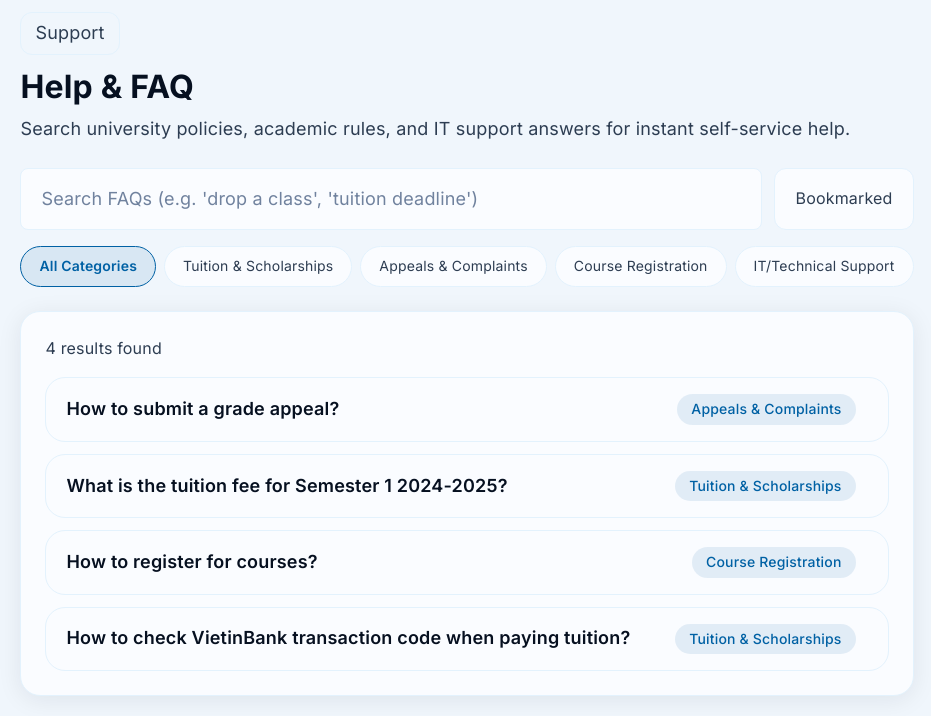
Scenario: FG06 - Centralized FAQ Access › TC_FAQ_20: view details then click Back -> returns to search list retaining keywords
Type "appeal" into the field with placeholder "Search FAQs (e.g. 'drop a class', 'tuition deadline')" at (391, 199), box [20,168,762,230]
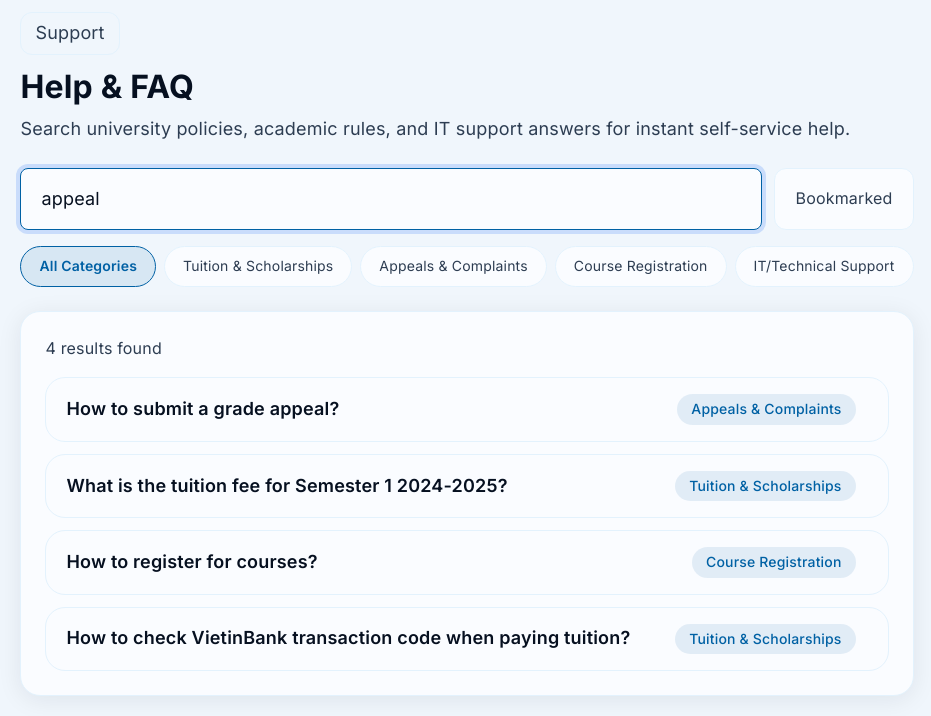
Click the text "How to submit a grade appeal?" at (203, 410), box [66,395,339,424]
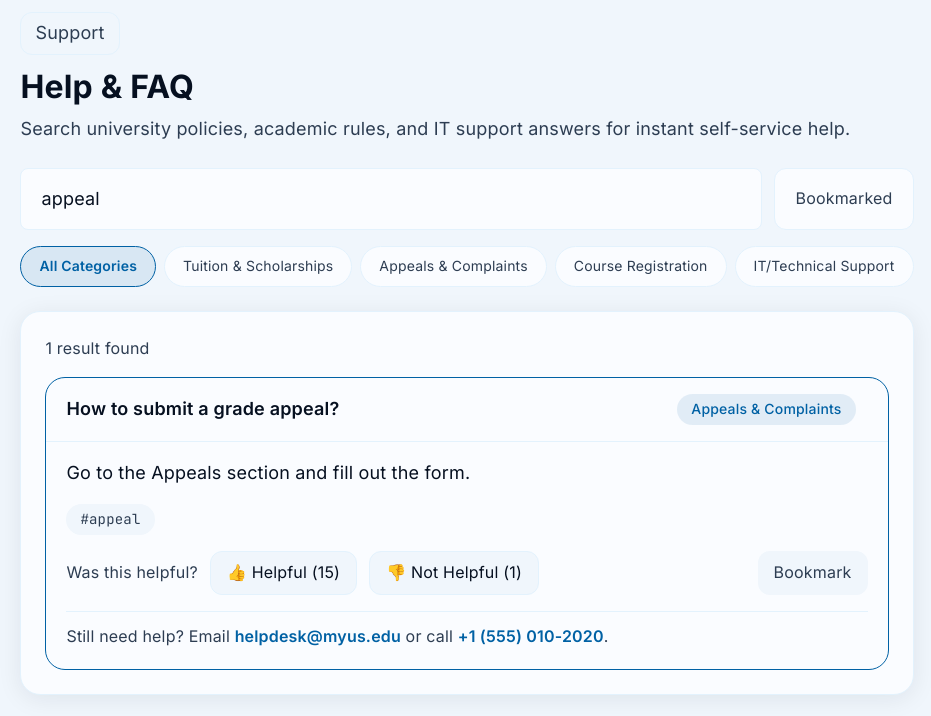
Now the text "Go to the Appeals section and fill out the form." is shown, box [66,462,470,483]
